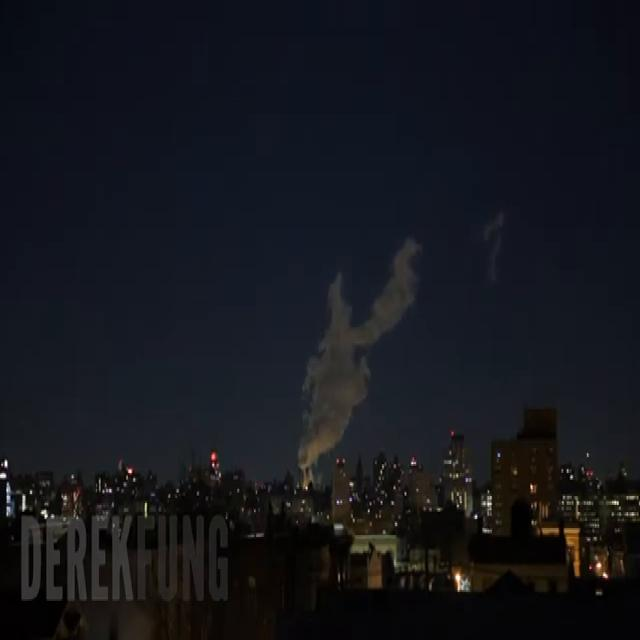smoke: (297, 238, 421, 491), (486, 210, 504, 281)
